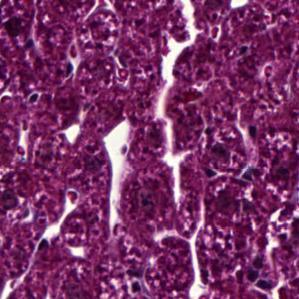inflammation: (242, 253, 275, 297), (198, 165, 229, 183)
